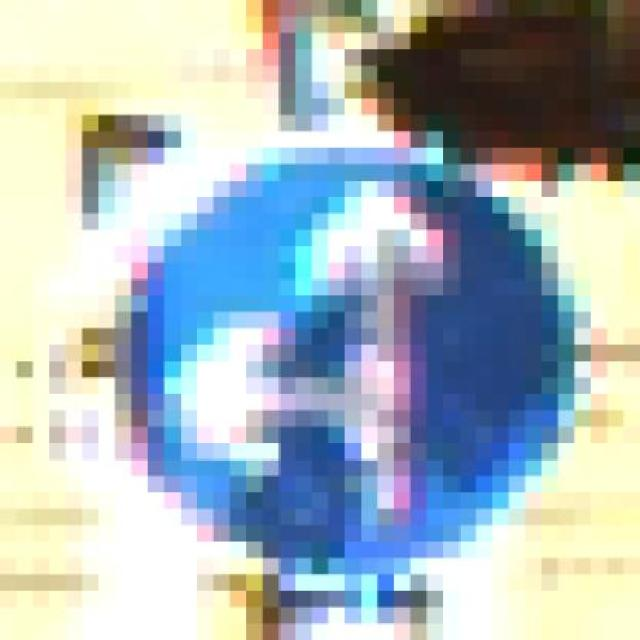Go straight or turn left: (66, 130, 592, 608)
